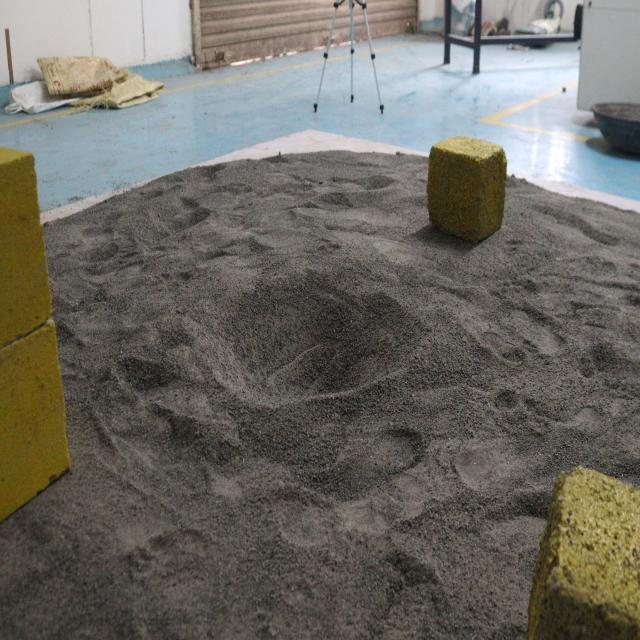box: (422, 134, 506, 250)
crater: (189, 261, 420, 414)
